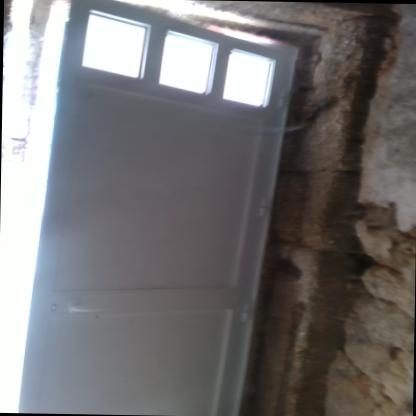semi: (0, 6, 339, 416)
